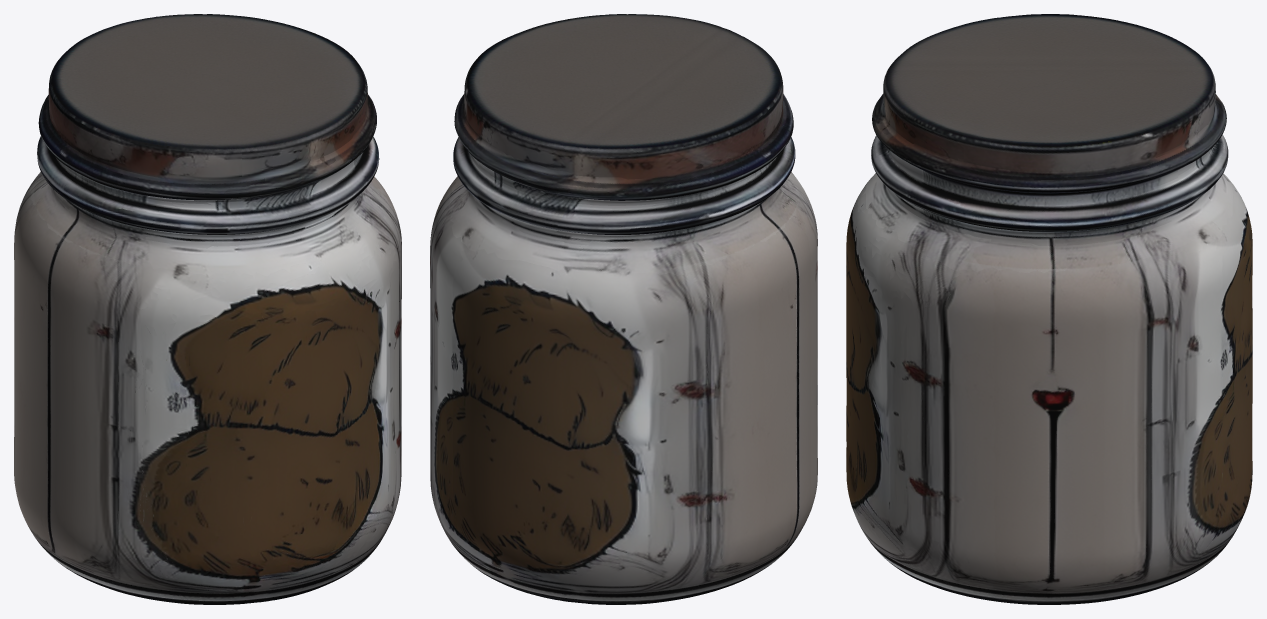
File: catalog-field-throw-2.glb
The picture shows the model from 3 angles, left to right: view 1: azimuth 30°, elevation 25°; view 2: azimuth 150°, elevation 25°; view 3: azimuth 270°, elevation 25°; orthographic projection.
Parts seen in each view (by area): view 1: tmpac4_00hr.ply; view 2: tmpac4_00hr.ply; view 3: tmpac4_00hr.ply.
Boxes of the visible parts, left/top/right/bottom form: tmpac4_00hr.ply: left=14, top=14, right=401, bottom=604; tmpac4_00hr.ply: left=430, top=14, right=817, bottom=604; tmpac4_00hr.ply: left=846, top=14, right=1252, bottom=604.
Size of the model in its own units: 1.49 by 1.96 by 1.57.
Materials: 1 (1 with a texture image).
